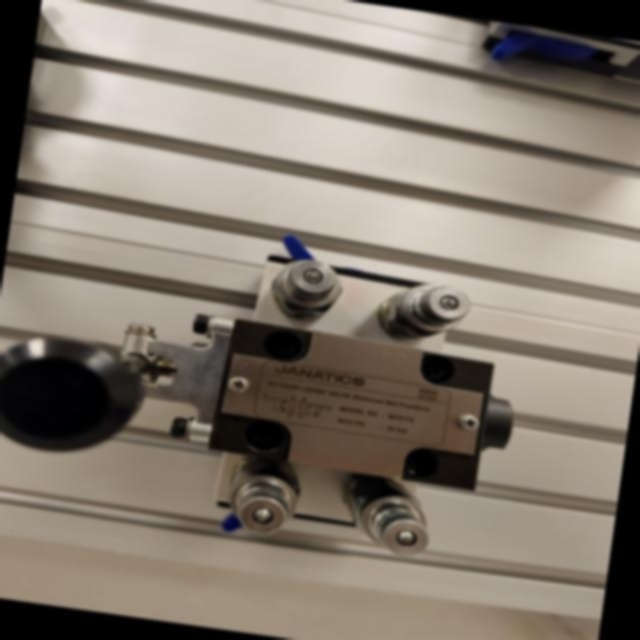4by3 hand lever valve: (0, 187, 544, 587)
